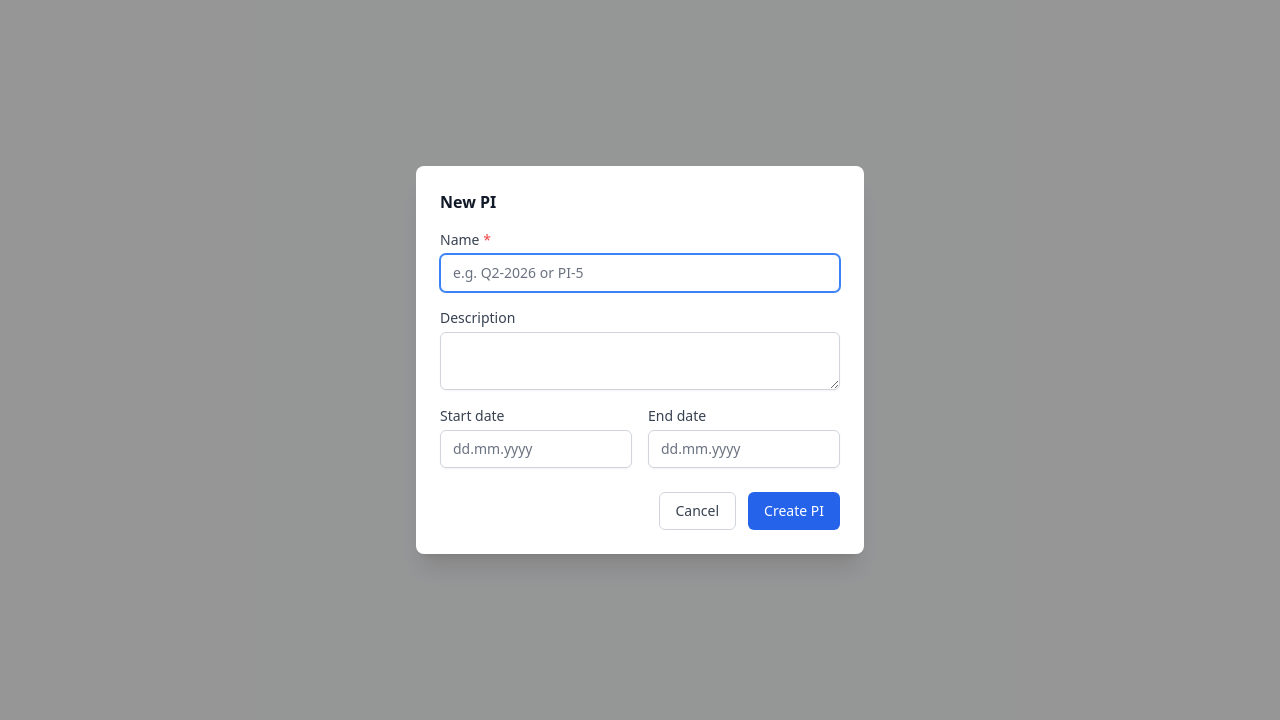
Test: CreatePIModal › requires a name
Click the button "Create PI" at (794, 511), box [748,492,840,530]
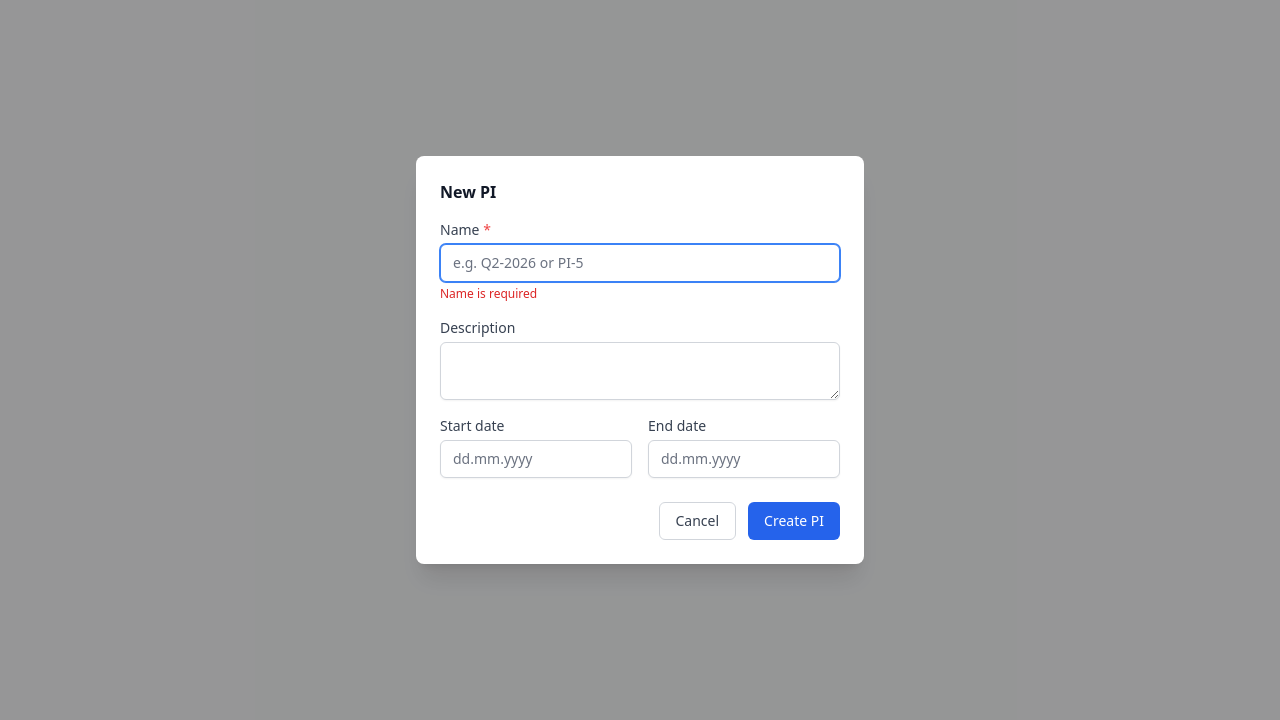
Expected: the text "Name is required" is shown, [440,285,537,302]
